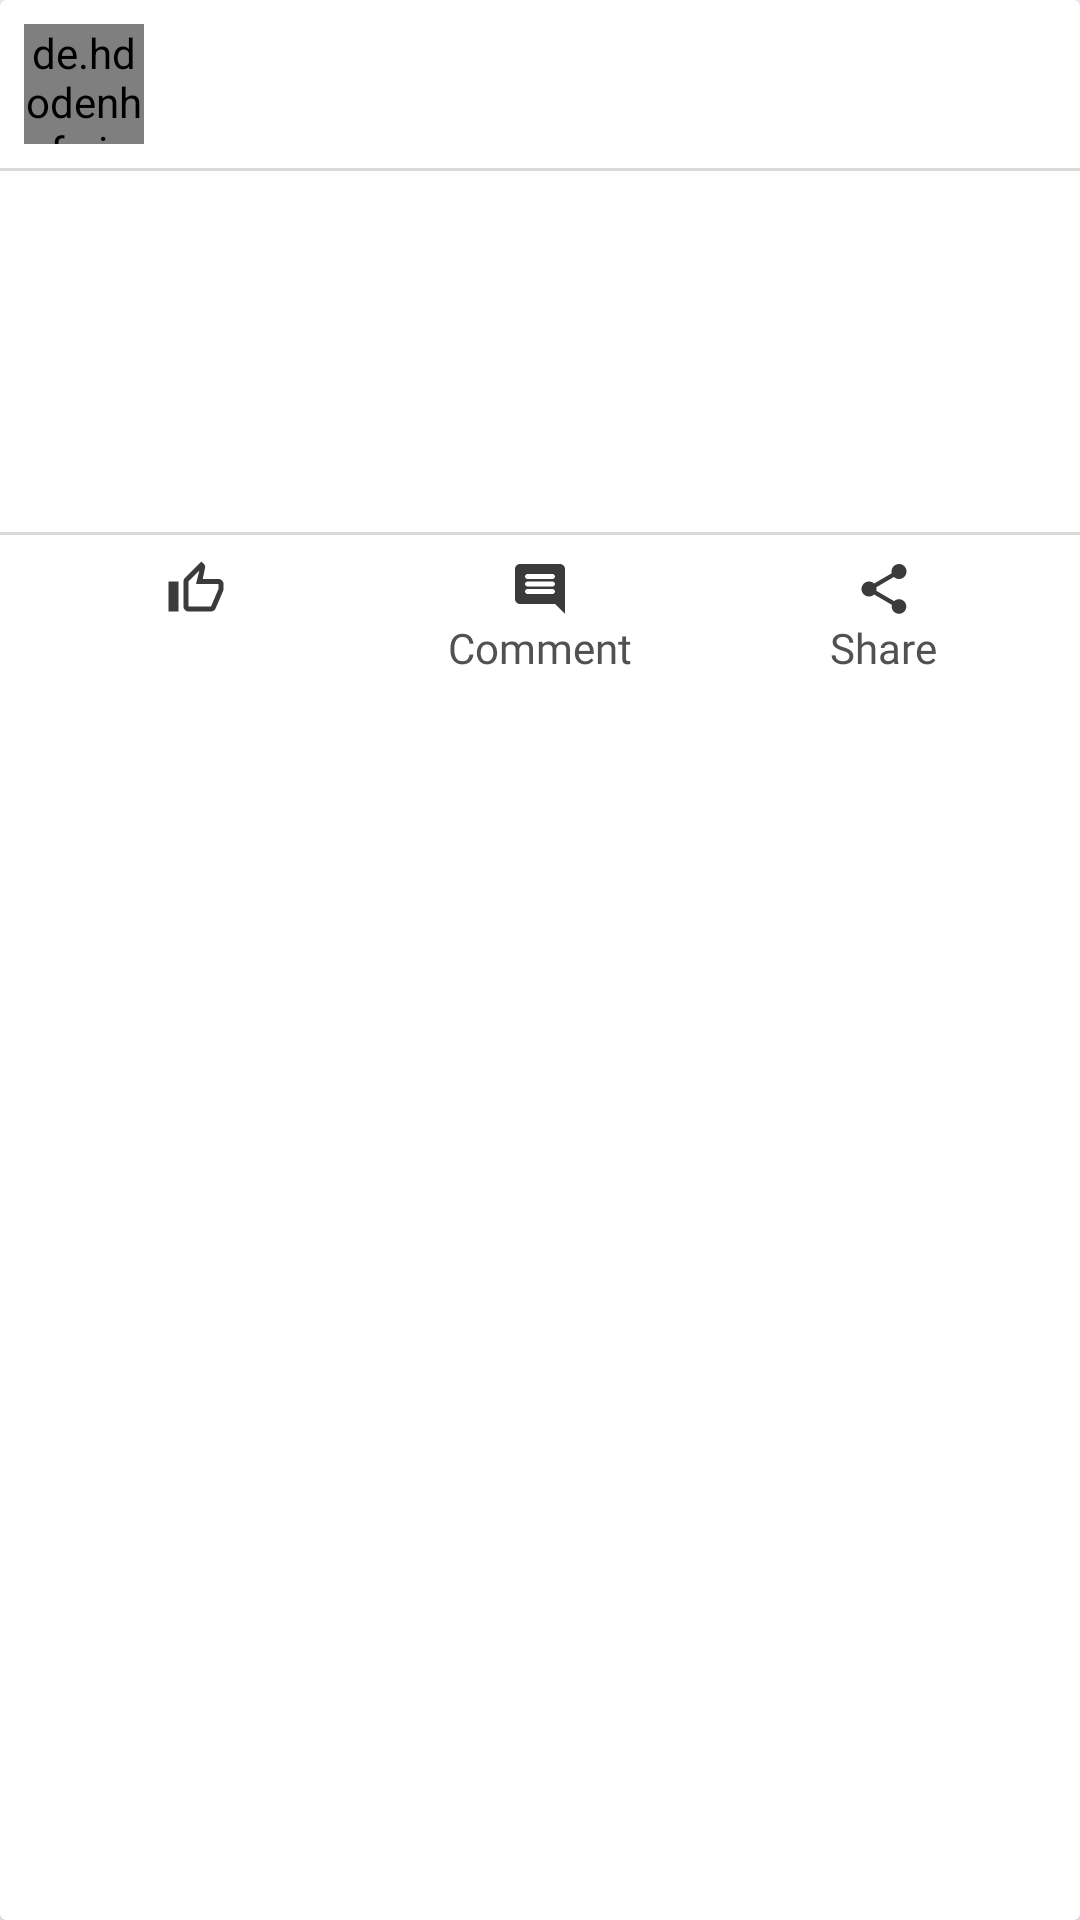

Where icons sit on this 1080x1920 app screen, as [x1,y1,x2,y2]:
thumb up: [168,561,224,612]
